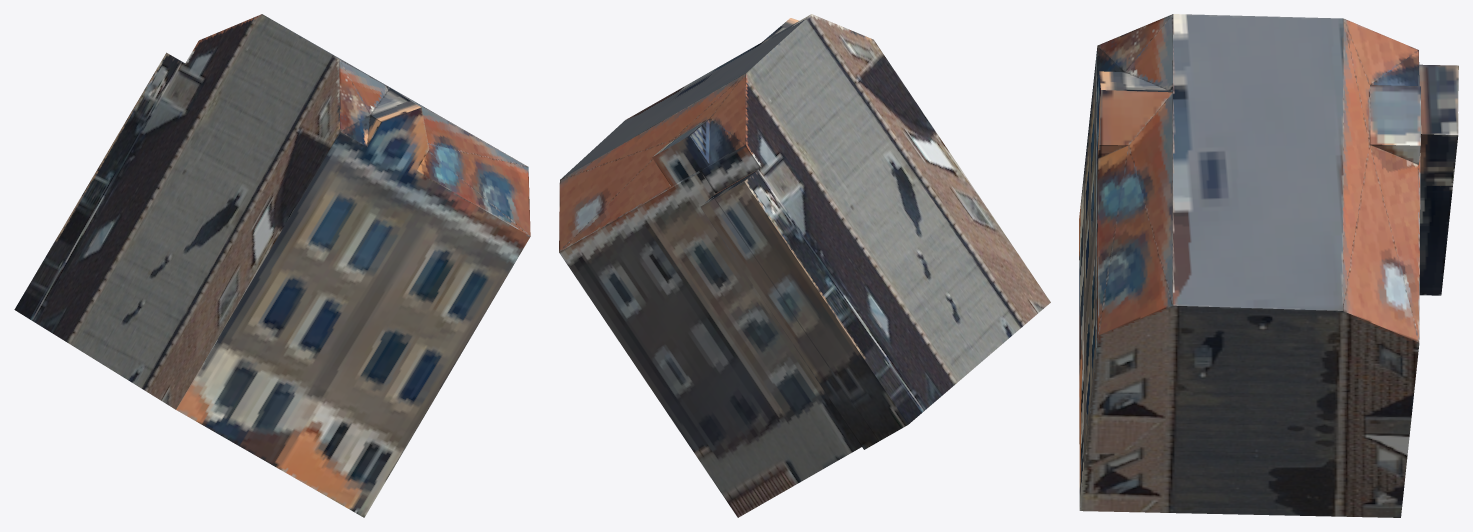
3 views of the same model, side by side, from view 1: azimuth 30°, elevation 25°; view 2: azimuth 150°, elevation 25°; view 3: azimuth 270°, elevation 25° (orthographic). The views are drawn at different scales.
Visible parts, largest first — view 1: BAG_0599100000688727 (×4); view 2: BAG_0599100000688727 (×5); view 3: BAG_0599100000688727 (×6).
Part boxes in pixels (x1=…): BAG_0599100000688727 (×4): x1=14, y1=14, x2=530, y2=517; BAG_0599100000688727 (×5): x1=559, y1=14, x2=1050, y2=517; BAG_0599100000688727 (×6): x1=1079, y1=14, x2=1458, y2=517.
Bounding box in the file's own units: 15.53 × 16.14 × 10.76.
Materials: 1 (1 with a texture image).
